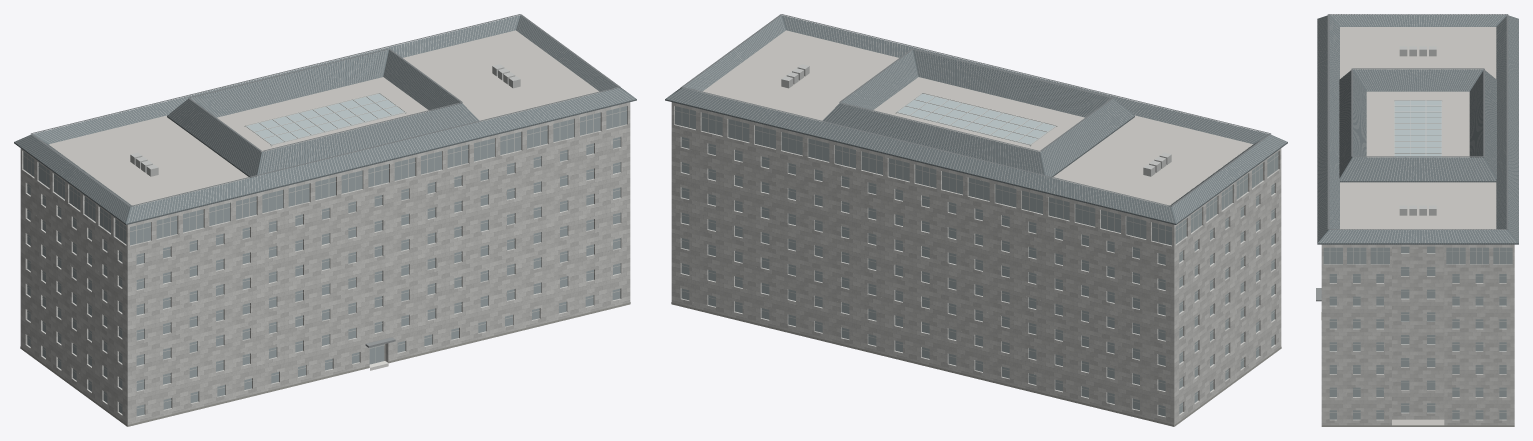
The picture shows the model from 3 angles, left to right: view 1: azimuth 30°, elevation 25°; view 2: azimuth 150°, elevation 25°; view 3: azimuth 270°, elevation 25°; orthographic projection. The views are drawn at different scales.
Visible parts, largest first — view 1: b470144647__wall, b470144647__roofAccent, b470144647__glass, b470144647__roof, b470144647__roofRib, b470144647__frame, b470144647__roofGlass, b470144647__roofRidge, b470144647__base, b470144647__roofMetal; view 2: b470144647__wall, b470144647__roofAccent, b470144647__roof, b470144647__glass, b470144647__roofRib, b470144647__frame, b470144647__roofGlass, b470144647__roofRidge, b470144647__base, b470144647__roofMetal; view 3: b470144647__wall, b470144647__roofAccent, b470144647__roof, b470144647__roofRib, b470144647__glass, b470144647__roofGlass, b470144647__roofRidge, b470144647__frame, b470144647__roofMetal, b470144647__base.
Boxes of the visible parts, <box> form: b470144647__wall: <box>20,102,630,426</box>; b470144647__roofAccent: <box>14,15,636,224</box>; b470144647__glass: <box>23,106,627,416</box>; b470144647__roof: <box>49,30,599,206</box>; b470144647__roofRib: <box>16,15,633,222</box>; b470144647__frame: <box>23,92,627,408</box>; b470144647__roofGlass: <box>246,93,405,145</box>; b470144647__roofRidge: <box>31,14,620,206</box>; b470144647__base: <box>20,302,630,426</box>; b470144647__roofMetal: <box>130,64,520,176</box>; b470144647__wall: <box>671,102,1281,426</box>; b470144647__roofAccent: <box>665,15,1287,224</box>; b470144647__roof: <box>701,30,1252,206</box>; b470144647__glass: <box>675,106,1278,416</box>; b470144647__roofRib: <box>668,15,1285,222</box>; b470144647__frame: <box>674,92,1278,408</box>; b470144647__roofGlass: <box>896,93,1055,145</box>; b470144647__roofRidge: <box>681,14,1270,206</box>; b470144647__base: <box>671,302,1281,426</box>; b470144647__roofMetal: <box>781,64,1171,176</box>; b470144647__wall: <box>1321,244,1514,425</box>; b470144647__roofAccent: <box>1317,15,1518,244</box>; b470144647__roof: <box>1340,27,1496,425</box>; b470144647__roofRib: <box>1317,14,1518,242</box>; b470144647__glass: <box>1323,246,1512,419</box>; b470144647__roofGlass: <box>1394,100,1441,157</box>; b470144647__roofRidge: <box>1327,14,1508,229</box>; b470144647__frame: <box>1324,100,1512,412</box>; b470144647__roofMetal: <box>1399,46,1436,215</box>; b470144647__base: <box>1321,425,1514,426</box>.
Size of the model in its own units: 76.2 by 32.62 by 29.08.
Materials: 15 (2 with a texture image).
